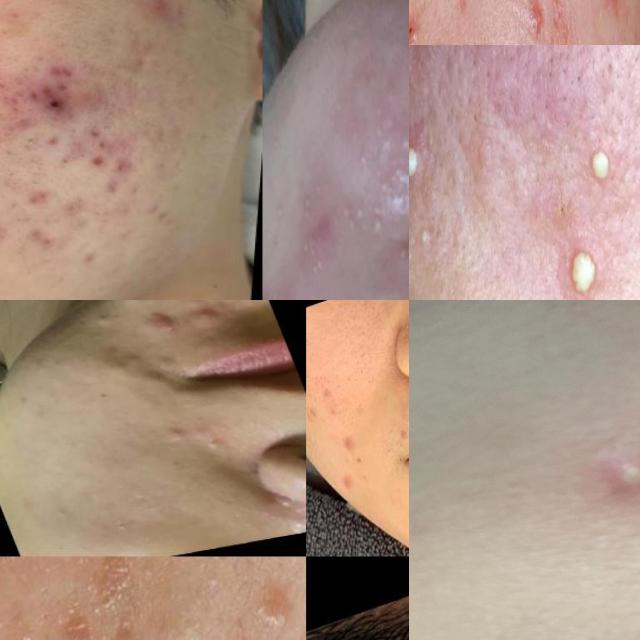acne_scars: (77, 124, 111, 178), (13, 219, 56, 254), (550, 0, 572, 42), (316, 372, 339, 412), (16, 185, 54, 208), (336, 422, 359, 460), (338, 464, 358, 502), (108, 154, 137, 176), (527, 0, 545, 30)
comedone: (72, 300, 123, 333), (101, 503, 139, 538), (192, 425, 232, 456), (147, 415, 186, 445), (372, 100, 398, 144), (339, 196, 365, 236), (352, 144, 372, 174), (271, 202, 285, 222), (301, 196, 311, 224), (313, 180, 322, 196)
flat_wart: (31, 556, 163, 640), (206, 603, 301, 640), (255, 585, 288, 630)
folliculitis: (409, 130, 429, 192)
papule: (139, 310, 186, 336), (144, 0, 182, 26), (185, 303, 233, 322), (262, 290, 279, 300)
pustule: (552, 214, 615, 300), (577, 117, 622, 208), (364, 207, 389, 237), (396, 236, 409, 265)
sebo-crystan-conglo: (292, 224, 332, 284), (376, 156, 409, 220), (396, 116, 409, 169)
